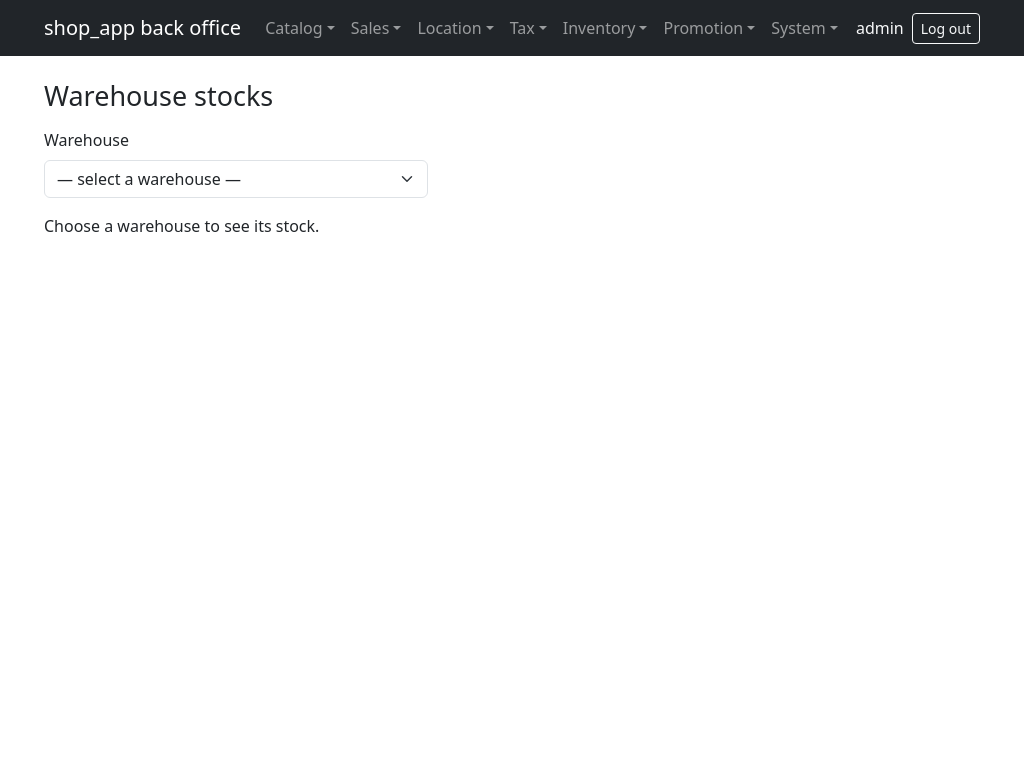
Test case: Warehouse stocks › adjusts quantities with a note, shows a server error, then saves
This screenshot has width=1024, height=768.
Step 1. Select "Main" in the dropdown labelled "Warehouse" → (236, 179), box x1=44 y1=160 x2=428 y2=198
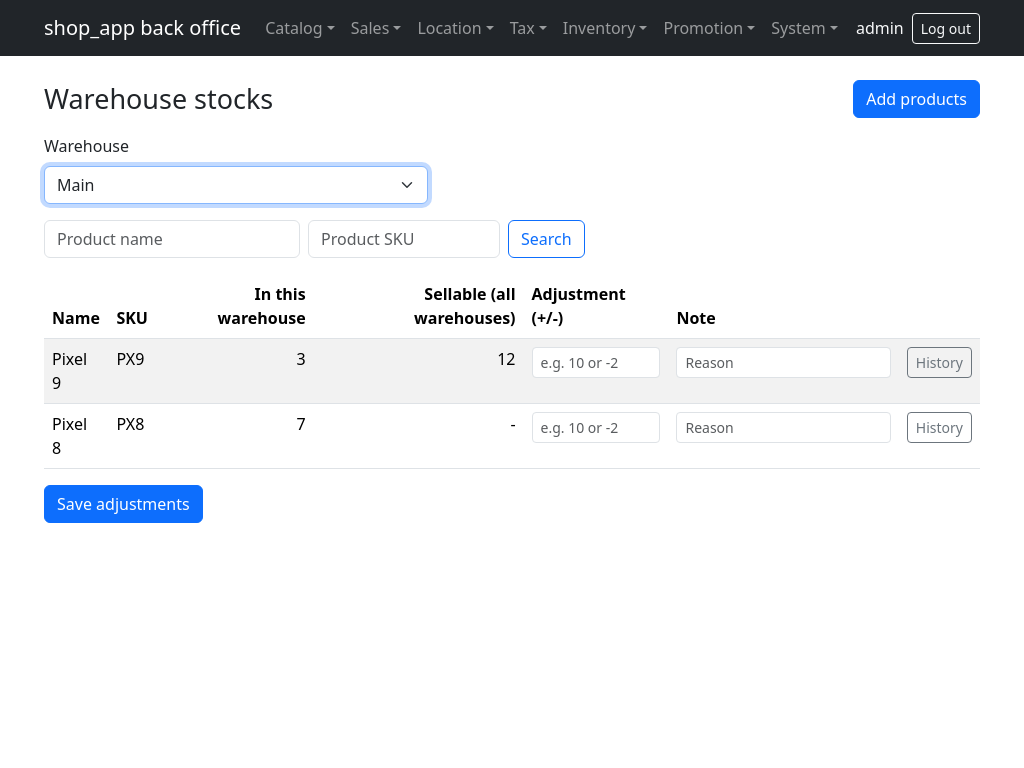
Expected: the text "PX9" is shown, x1=108 y1=338 x2=156 y2=404
Step 2. Type "-5" into the field named "Adjustment for Pixel 9" → (596, 362), box x1=532 y1=347 x2=660 y2=378
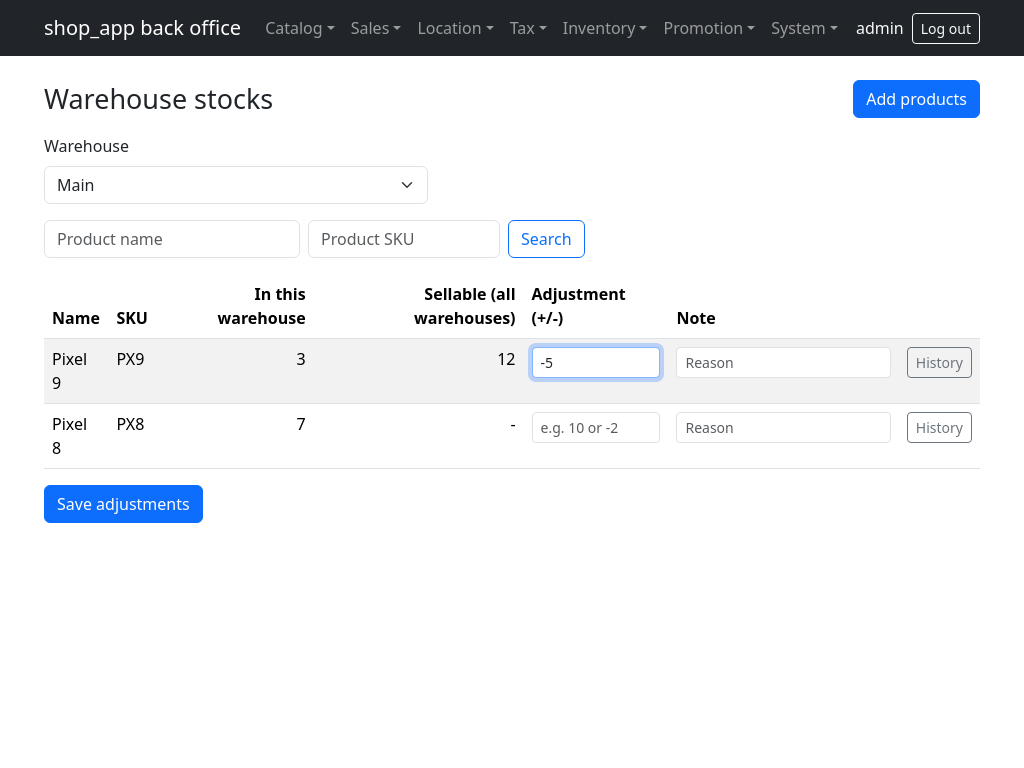
Step 3. Type "damaged" into the field named "Note for Pixel 9" → (784, 362), box x1=676 y1=347 x2=891 y2=378
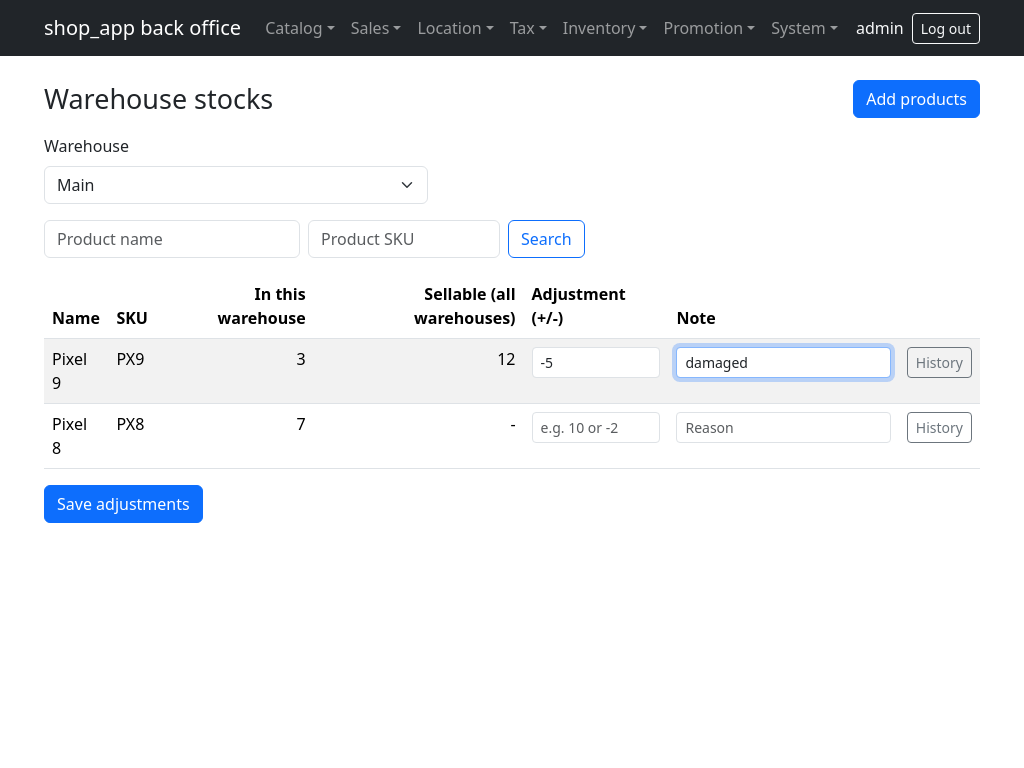
Step 4. Click the button "Save adjustments" → (123, 504), box x1=44 y1=485 x2=203 y2=523
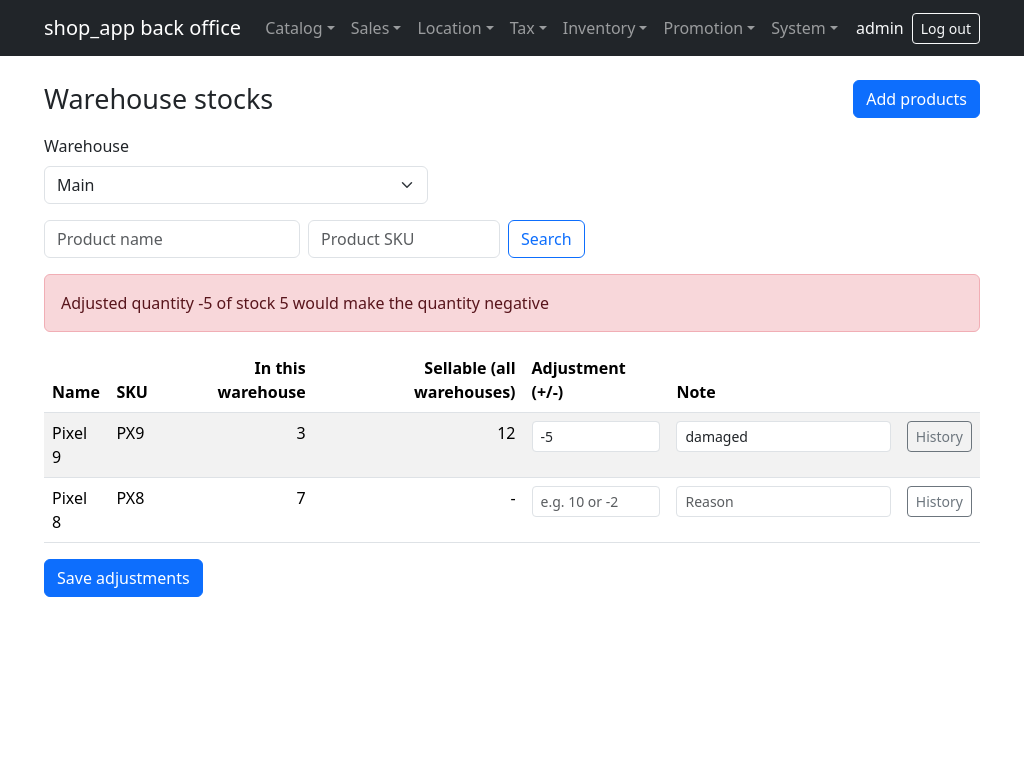
Expected: the message shows "would make the quantity negative", x1=61 y1=292 x2=549 y2=314
Step 5. Replace the text in the field named "Adjustment for Pixel 9" with "-2" → (596, 436), box x1=532 y1=421 x2=660 y2=452
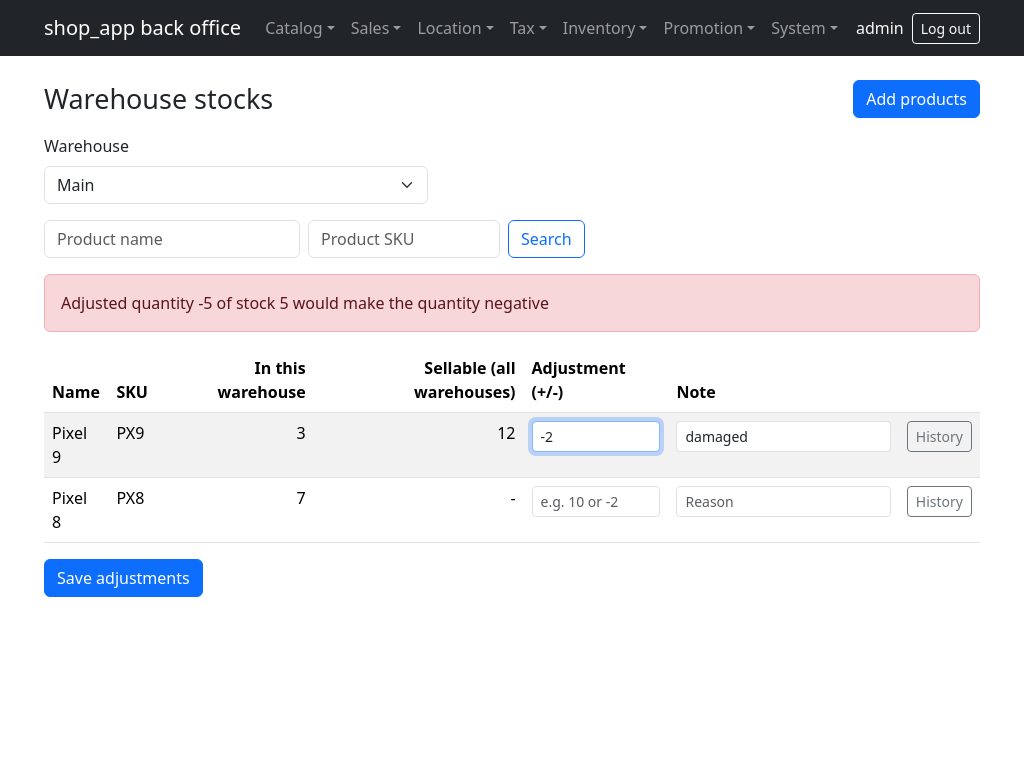
Step 6. Click the button "Save adjustments" → (123, 578), box x1=44 y1=559 x2=203 y2=597
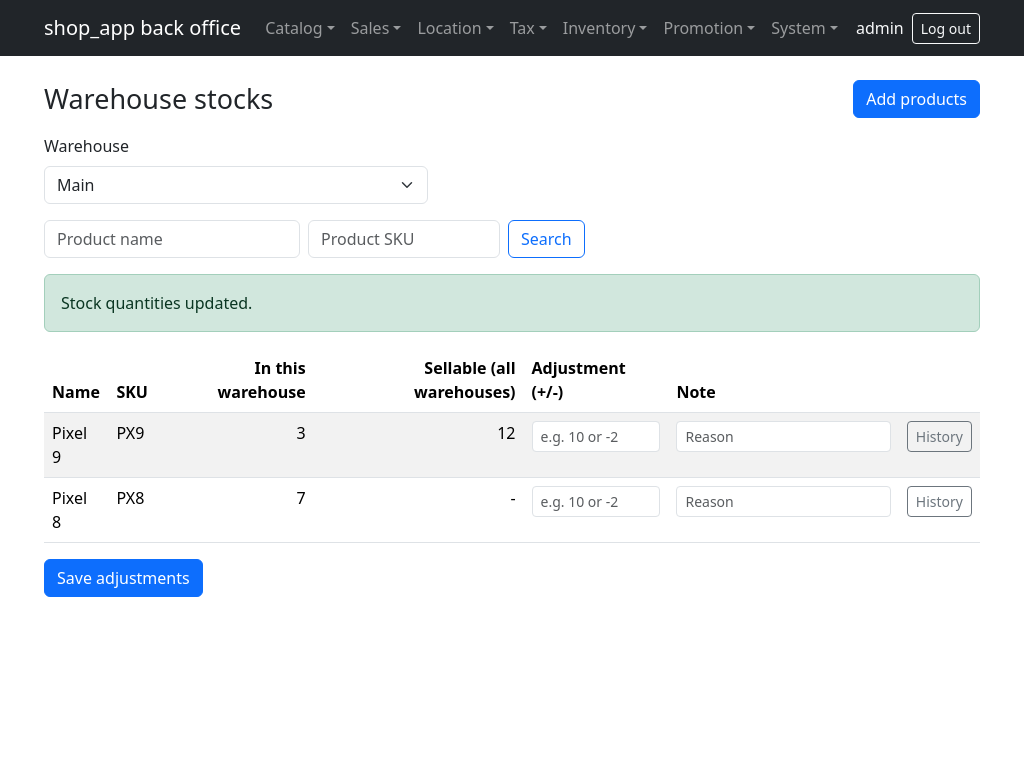
Expected: the text "Stock quantities updated." is shown, x1=44 y1=274 x2=980 y2=332
